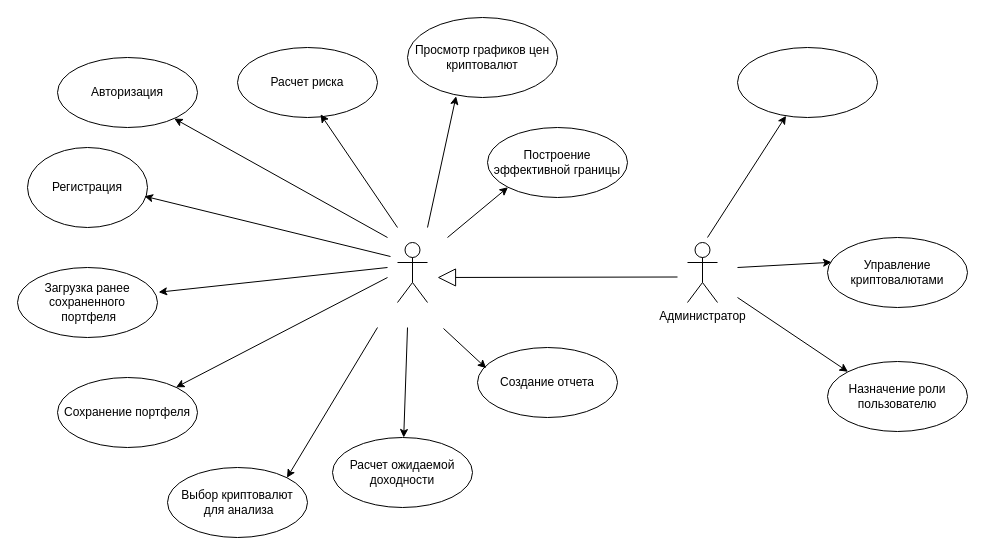
Image size: 985x555. Some labels were removed from this diagram. Each missing label, with the box of its shape:
Пользователь: (396, 242, 428, 302)
Управление пользователями: (736, 46, 878, 118)
